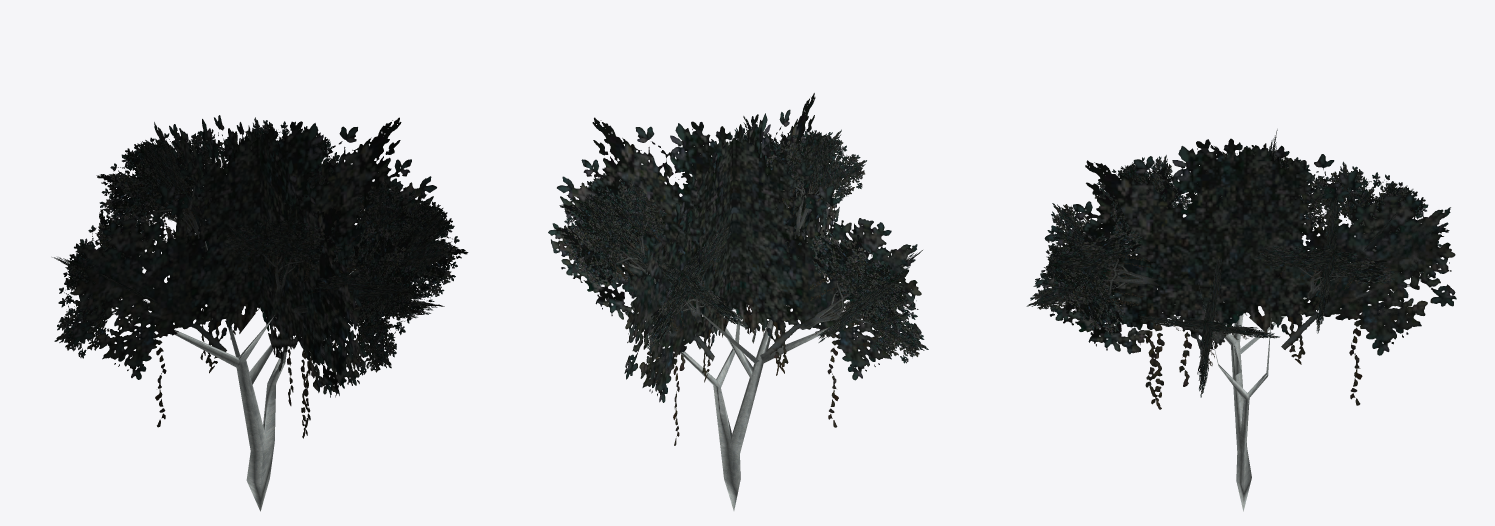
Rendered from decd_tallbirchb_l2.fbx.
3 renders of one model, left to right at view 1: azimuth 30°, elevation 25°; view 2: azimuth 150°, elevation 25°; view 3: azimuth 270°, elevation 25°, orthographic. The views are drawn at different scales.
Visible parts, largest first — view 1: mesh_node; view 2: mesh_node; view 3: mesh_node.
Boxes of the visible parts, x1,y1,x2,y2 form: mesh_node: [52, 115, 468, 511]; mesh_node: [548, 93, 928, 510]; mesh_node: [1026, 129, 1456, 511].
Bounding box in the file's own units: 69.81 × 62.08 × 68.57.
